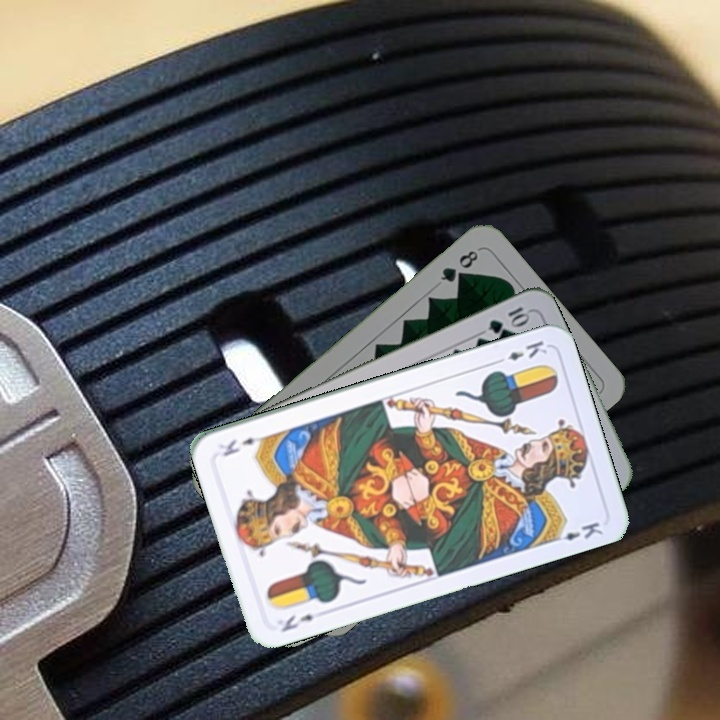EK: (491, 336, 550, 367), (277, 610, 317, 635)
G10: (484, 302, 532, 336)
G8: (436, 245, 483, 285)
